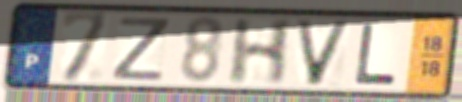7: (60, 8, 114, 87)
8: (177, 14, 227, 88)
H: (225, 17, 297, 87)
L: (352, 21, 400, 89)
V: (292, 17, 355, 88)
Z: (109, 15, 175, 83)
